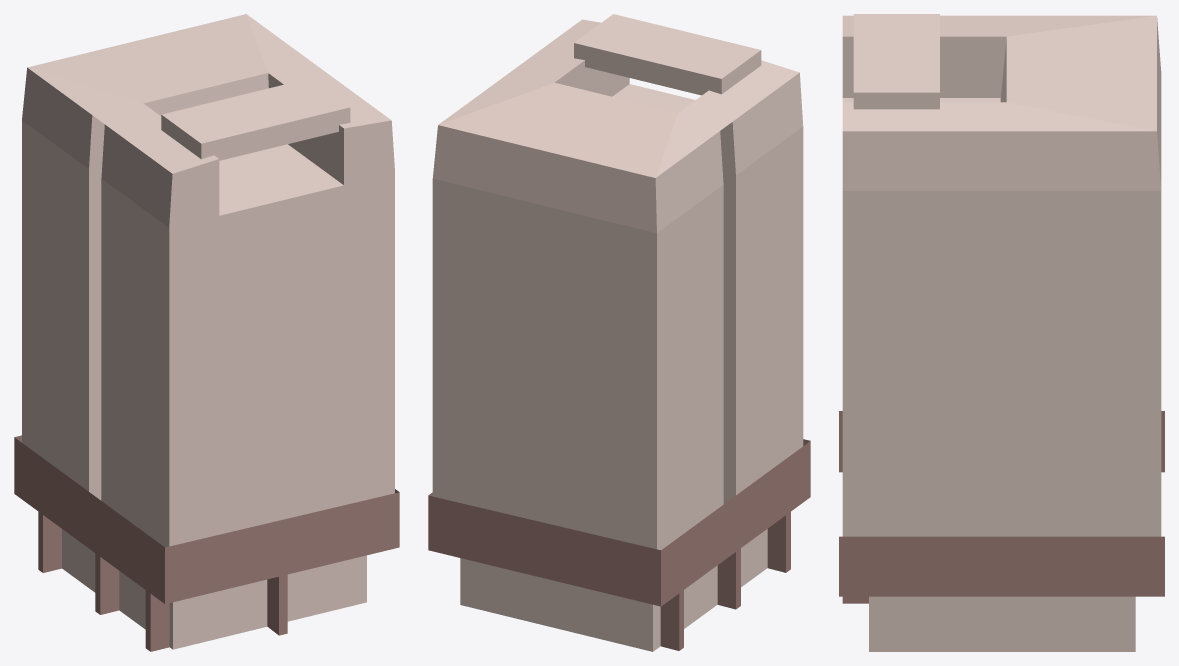
The model's file is Edificio010.FBX.
3 views of the same model, side by side, from view 1: azimuth 30°, elevation 25°; view 2: azimuth 150°, elevation 25°; view 3: azimuth 270°, elevation 25° (orthographic). The views are drawn at different scales.
Visible parts, largest first — view 1: Edificio010; view 2: Edificio010; view 3: Edificio010.
Boxes of the visible parts, x1,y1,x2,y2 form: Edificio010: [14, 14, 399, 651]; Edificio010: [428, 14, 810, 651]; Edificio010: [839, 14, 1164, 651].
Size of the model in its own units: 668 by 1377 by 744.
